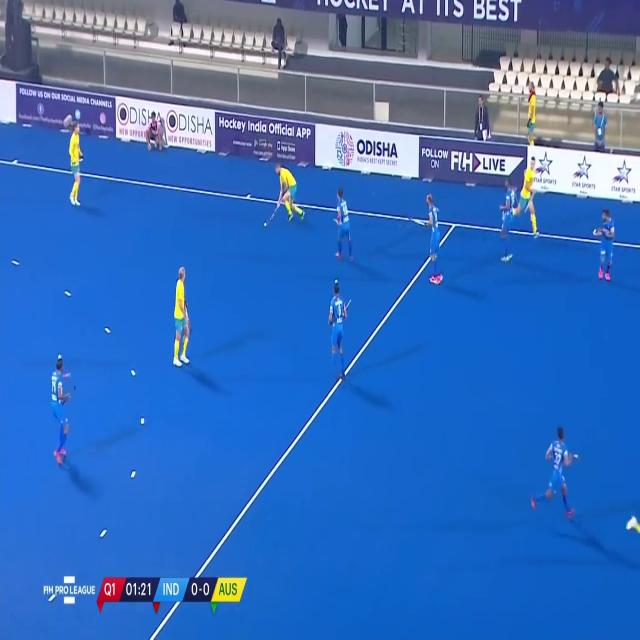ball: (263, 221, 267, 228)
